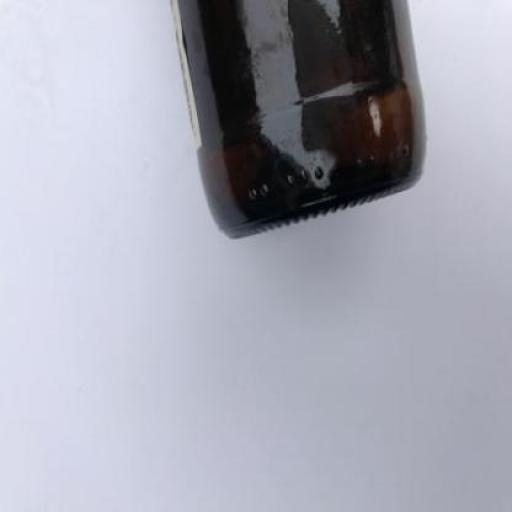glass: (168, 1, 426, 241)
